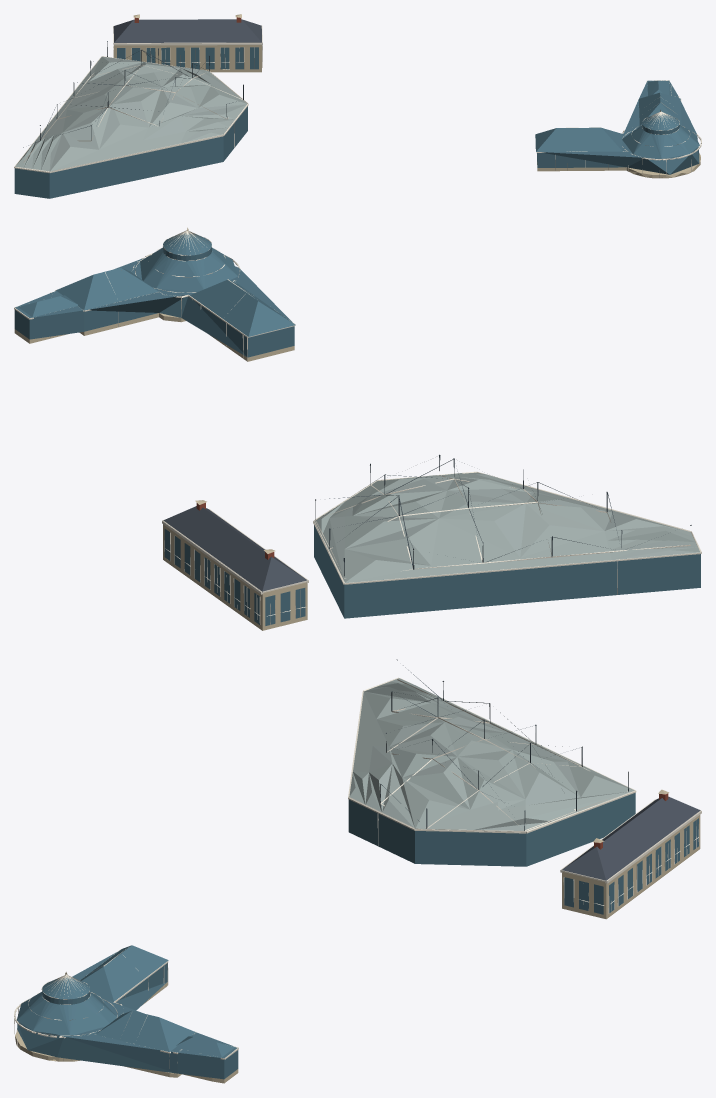
Rendered from hortus-greenhouses.lod1.glb.
3 views of the same model, one above another, from view 1: azimuth 30°, elevation 25°; view 2: azimuth 150°, elevation 25°; view 3: azimuth 270°, elevation 25° (orthographic). The views are drawn at different scales.
Visible parts, largest first — view 1: hortus-greenhouses; view 2: hortus-greenhouses; view 3: hortus-greenhouses.
Part boxes in pixels (bbox=[...]): hortus-greenhouses: bbox=[14, 14, 701, 198]; hortus-greenhouses: bbox=[14, 227, 701, 630]; hortus-greenhouses: bbox=[14, 659, 701, 1083].
Size of the model in its own units: 133 by 14.08 by 104.
